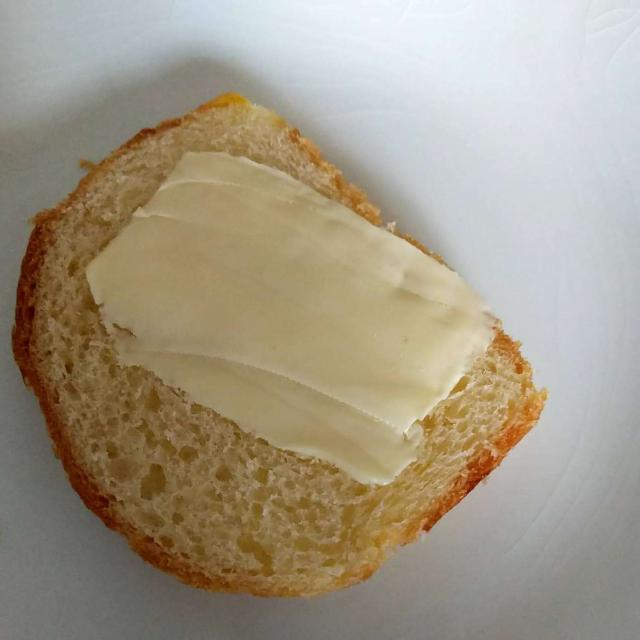brioche: (32, 86, 541, 594), (23, 109, 530, 599)
butter: (69, 163, 526, 492), (93, 141, 494, 476)
